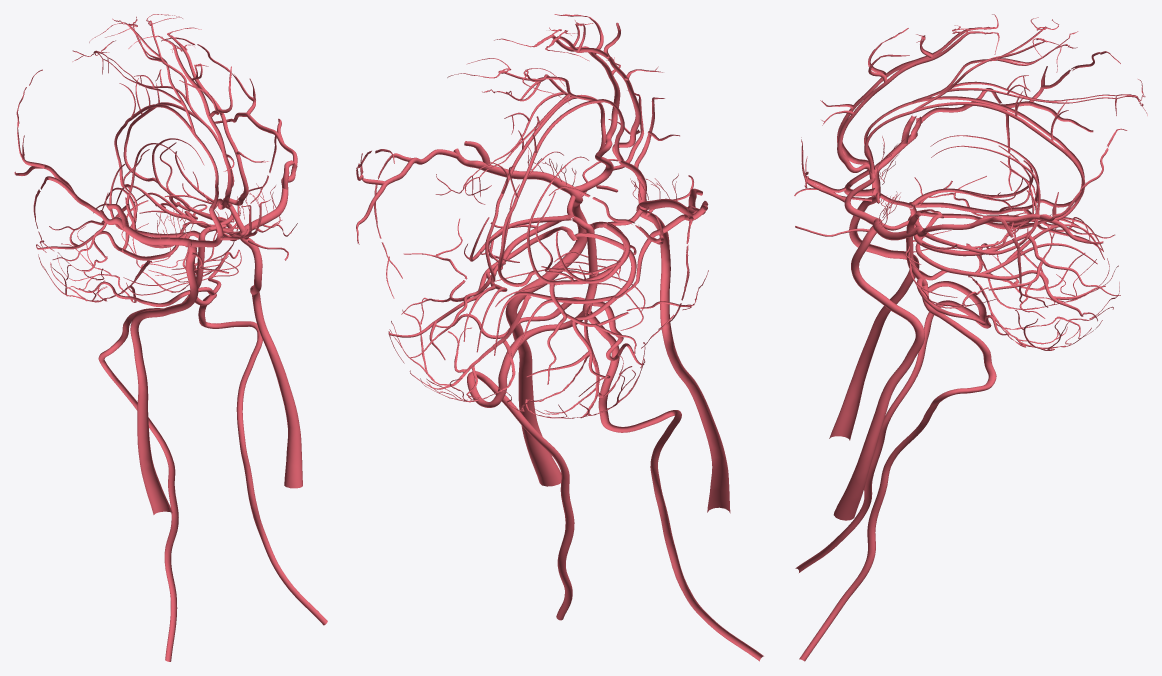
The model's file is cerebral-arteries.glb.
3 views of the same model, side by side, from view 1: azimuth 30°, elevation 25°; view 2: azimuth 150°, elevation 25°; view 3: azimuth 270°, elevation 25° (orthographic). The views are drawn at different scales.
Visible parts, largest first — view 1: ica_R, ica_L, vert_L, vert_R, a2_R, a2_L, basilar, p2_R, p2_L, cm_L, cm_R, sca_R (+7 smaller); view 2: ica_R, ica_L, vert_R, vert_L, a2_R, p2_R, a2_L, basilar, sca_R, p2_L, pica_L, sca_L (+7 smaller); view 3: ica_L, vert_L, ica_R, a2_L, vert_R, a2_R, p2_L, p2_R, sca_L, cm_L, basilar, cm_R (+8 smaller).
Part boxes in pixels (x1,y1,x2,y2): ica_R: (130,249,229,514); ica_L: (240,238,302,488); vert_L: (195,293,327,625); vert_R: (98,295,188,661); a2_R: (72,18,251,240); a2_L: (95,14,282,238); basilar: (78,247,241,306); p2_R: (49,143,189,280); p2_L: (152,138,297,236); cm_L: (167,27,268,206); cm_R: (128,35,234,209); sca_R: (36,187,188,260); ica_R: (640,175,730,513); ica_L: (505,159,617,486); vert_R: (585,311,763,661); vert_L: (467,311,589,620); a2_R: (465,68,679,286); p2_R: (527,156,708,384); a2_L: (435,58,643,282); basilar: (436,237,645,365); sca_R: (494,232,636,396); p2_L: (401,151,573,357); pica_L: (389,295,531,402); sca_L: (388,226,577,363); ica_L: (795,225,924,520); vert_L: (799,285,996,661); ica_R: (794,188,919,440); a2_L: (801,38,1147,220); vert_R: (795,281,991,572); a2_R: (801,17,1145,207); p2_L: (913,145,1120,318); p2_R: (909,135,1114,238); sca_L: (915,214,1105,321); cm_L: (821,31,999,179); basilar: (905,225,1007,335); cm_R: (820,14,998,166).
Bounding box in the file's own units: 1.46 × 3.07 × 1.66.
